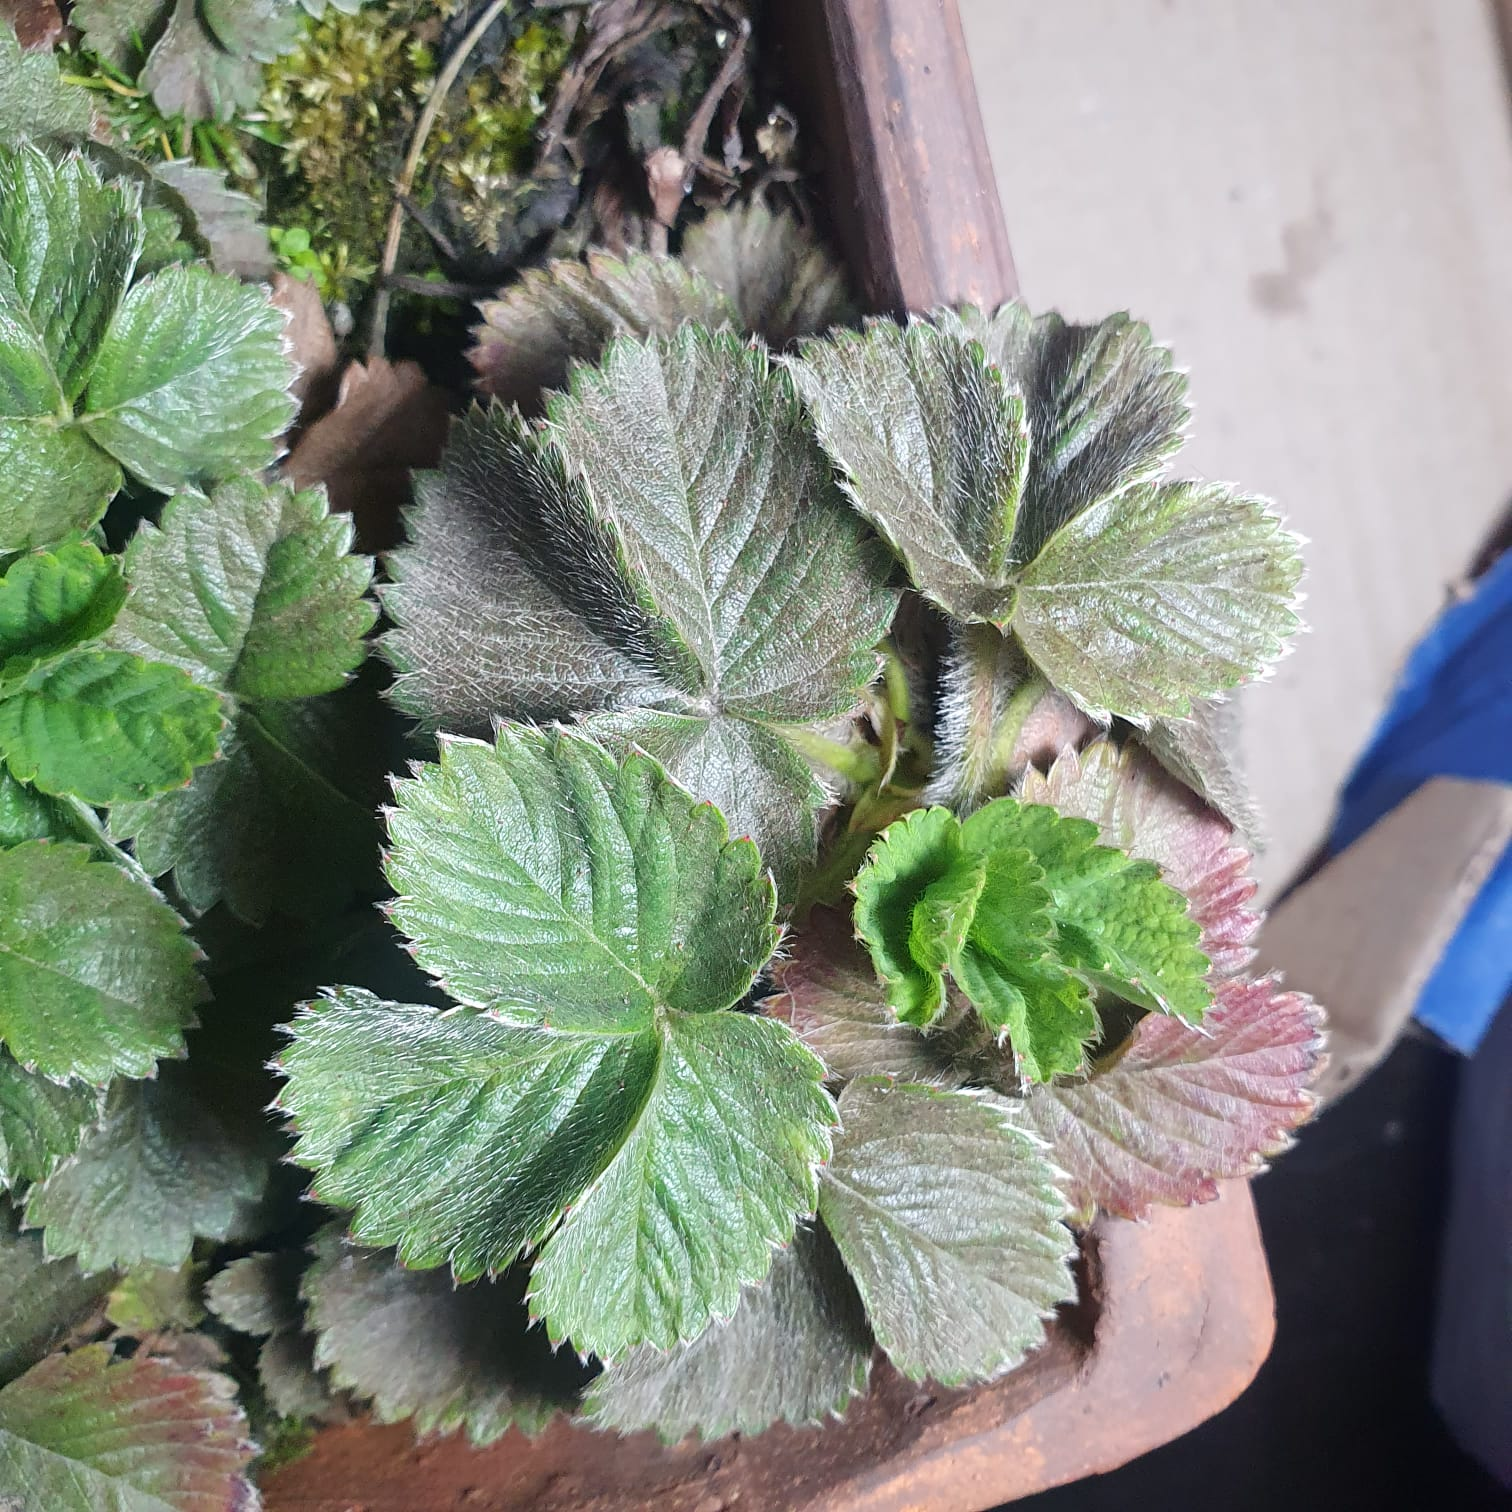tizon_temprano: (1043, 782, 1313, 1259)
